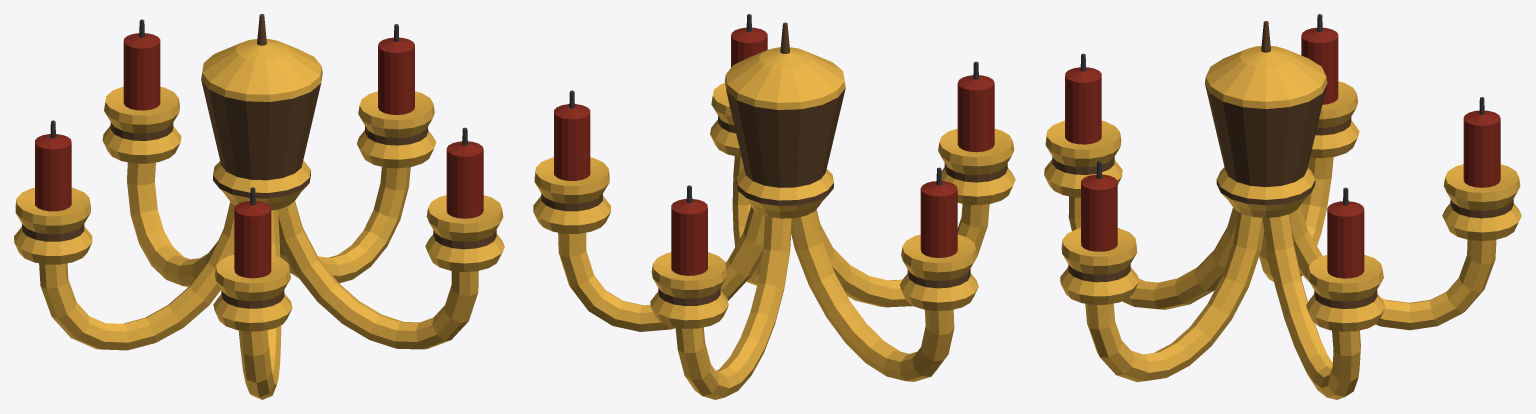
File: chandelier.fbx
The picture shows the model from 3 angles, left to right: view 1: azimuth 30°, elevation 25°; view 2: azimuth 150°, elevation 25°; view 3: azimuth 270°, elevation 25°; orthographic projection.
Visible parts, largest first — view 1: chandelier-leg, chandelier-center; view 2: chandelier-leg, chandelier-center; view 3: chandelier-leg, chandelier-center.
Boxes of the visible parts, x1=… form: chandelier-leg: x1=14, y1=19, x2=504, y2=399; chandelier-center: x1=201, y1=14, x2=322, y2=210; chandelier-leg: x1=533, y1=14, x2=1015, y2=399; chandelier-center: x1=724, y1=22, x2=845, y2=218; chandelier-leg: x1=1044, y1=14, x2=1521, y2=399; chandelier-center: x1=1205, y1=21, x2=1327, y2=217.
Size of the model in its own units: 3.39 by 2.4 by 3.3.
